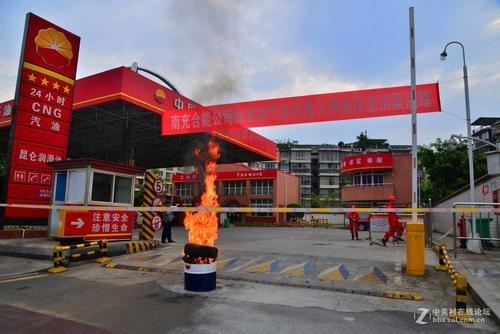fire: (183, 137, 223, 252)
